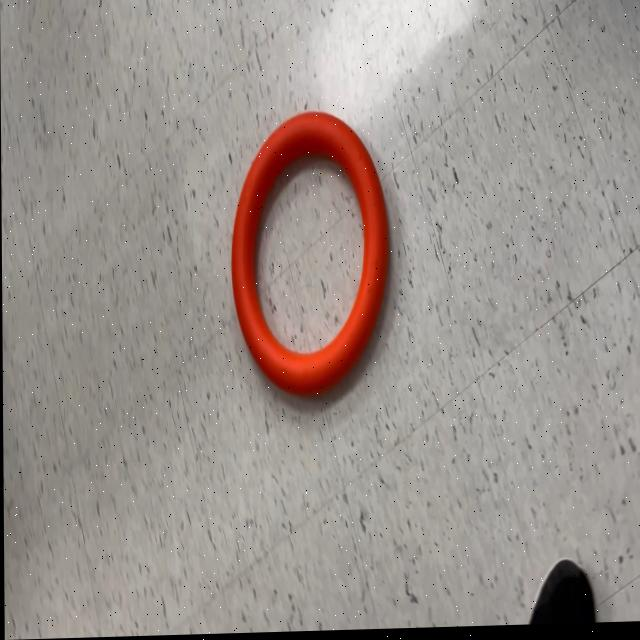note: (228, 110, 391, 403)
